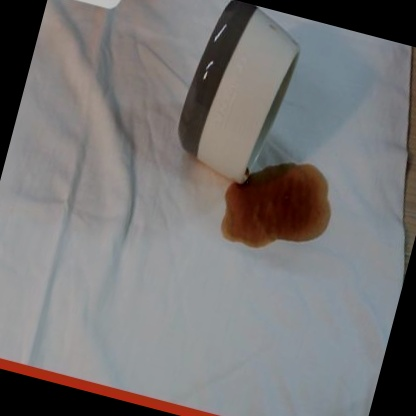coffee: (243, 165, 311, 238)
